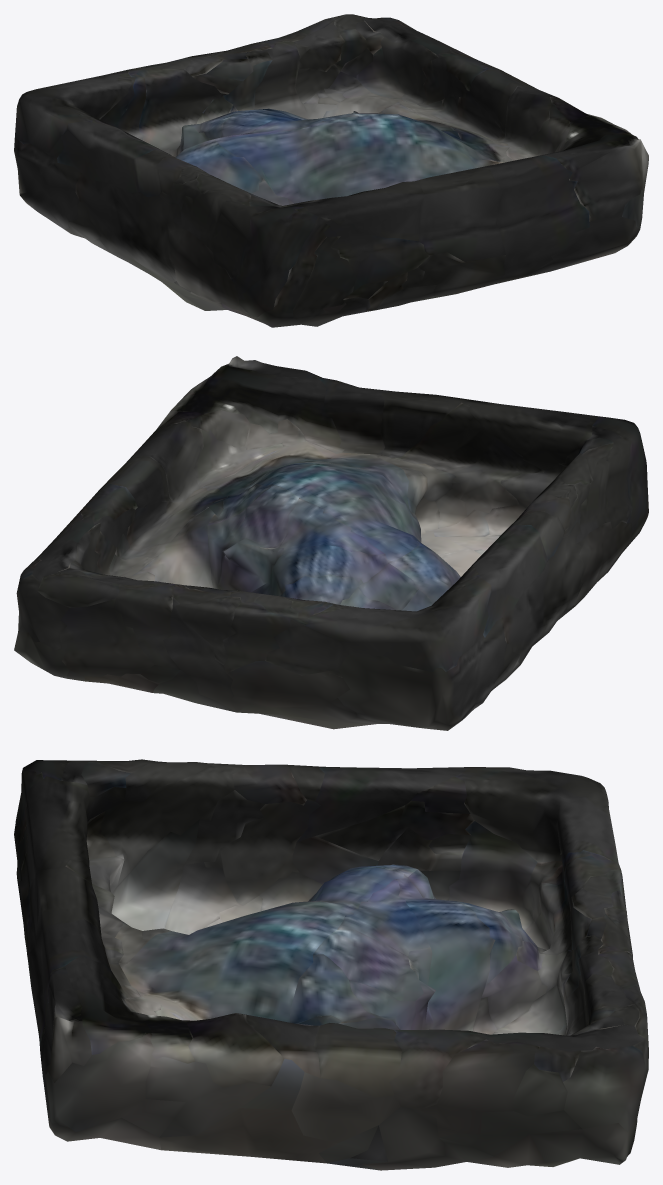
File: hall.glb
The picture shows the model from 3 angles, top to bottom: view 1: azimuth 30°, elevation 25°; view 2: azimuth 150°, elevation 25°; view 3: azimuth 270°, elevation 25°; orthographic projection. The views are drawn at different scales.
Size of the model in its own units: 0.6702 by 0.2873 by 0.665.
Materials: 1 (1 with a texture image).
